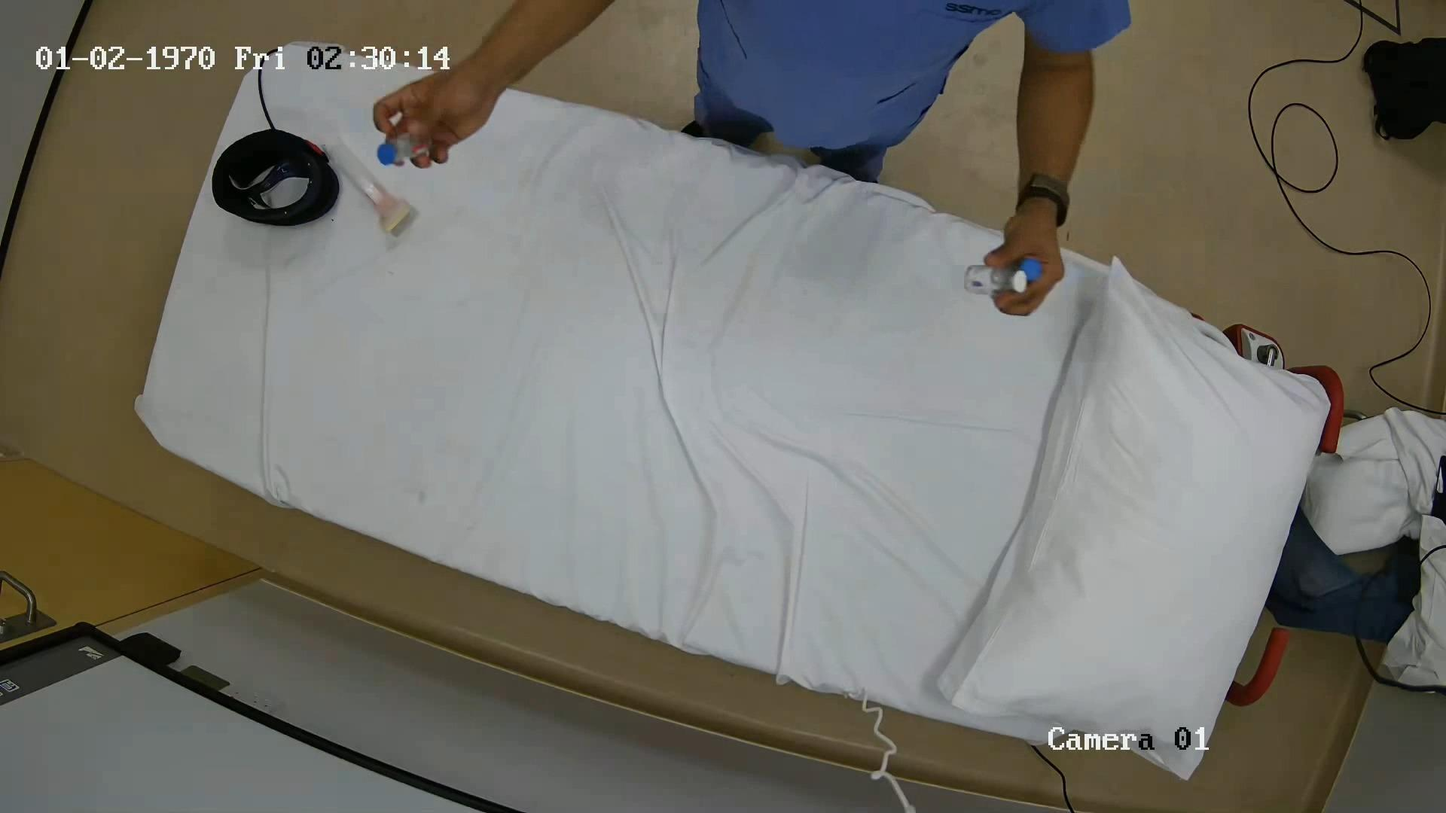bed: (135, 43, 1329, 778)
